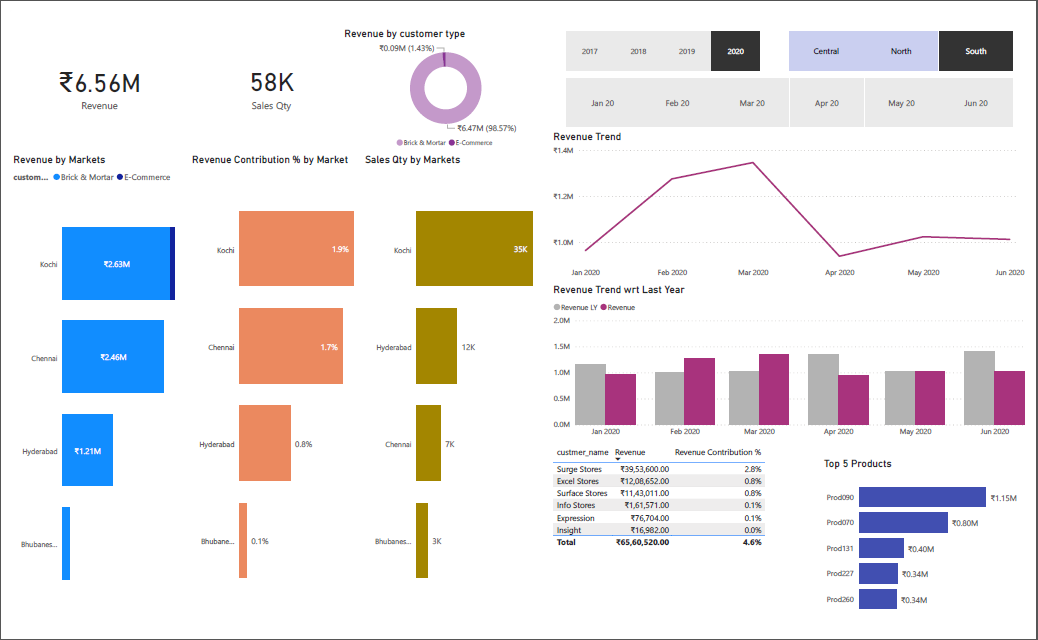

This screenshot's page, from the dashboard's own definition file:
{"tool":"powerbi","page":{"name":"Page 2","canvas":[1680,1000],"ordinal":1},"visuals":[{"type":"card","fields":{"Values":["BaseMeasures.Revenue"]},"box":[0,0,295.4,225.5],"z":0},{"type":"card","fields":{"Values":["BaseMeasures.Sales Qty"]},"box":[315.4,0,231.5,223.6],"z":1000},{"type":"barChart","title":"Revenue by Markets","fields":{"Y":["BaseMeasures.Revenue"],"Category":["sales markets.markets_name"],"Series":["sales customers.customer_type"]},"box":[0,223.6,295.4,776.4],"z":2000},{"type":"barChart","title":"Sales Qty by Markets","fields":{"Y":["BaseMeasures.Sales Qty"],"Category":["sales markets.markets_name"]},"box":[580.8,223.6,311.4,776.4],"z":3000},{"type":"slicer","fields":{"Values":["sales date.year"]},"box":[892.2,16,369.3,77.8],"z":4000},{"type":"slicer","fields":{"Values":["sales date.cy_date"]},"box":[892.2,93.8,788.4,91.8],"z":5000},{"type":"tableEx","title":"Top 5 Customers","fields":{"Values":["sales customers.custmer_name","BaseMeasures.Revenue","BaseMeasures.Revenue Contribution"]},"box":[892.2,702.6,447.1,297.4],"z":6000},{"type":"barChart","title":"Top 5 Products","fields":{"Category":["sales transactions.product_code"],"Y":["BaseMeasures.Revenue"]},"box":[1339.3,726.5,341.3,273.5],"z":7000},{"type":"lineChart","title":"Revenue Trend","fields":{"Y":["BaseMeasures.Revenue"],"Category":["sales date.cy_date"]},"box":[892.2,185.6,788.4,253.5],"z":8000},{"type":"slicer","fields":{"Values":["sales markets.zone"]},"box":[1260.8,16,419.2,77.8],"z":9000},{"type":"barChart","title":"Revenue Contribution % by Market","fields":{"Y":["BaseMeasures.Revenue Contribution"],"Category":["sales markets.markets_name"]},"box":[295.4,223.6,285.4,776.4],"z":10000},{"type":"donutChart","title":"Revenue by customer type","fields":{"Category":["sales customers.customer_type"],"Y":["BaseMeasures.Revenue"]},"box":[546.9,16,345.3,207.6],"z":11000},{"type":"lineClusteredColumnComboChart","title":"Revenue Trend wrt Last Year","fields":{"Category":["sales date.cy_date"],"Y":["BaseMeasures.Revenue LY","BaseMeasures.Revenue"]},"box":[892.2,439.1,788.4,263.5],"z":12000}]}

Visuals, with their boxes on the page's 1680x1000 design canvas (x1, y1, x2, y2). These are canvas units, not pixel positions in the 1038x640 screenshot, which may show the page scaled, cropped or inside an application window:
card - BaseMeasures.Revenue: 0,0,295,226
card - BaseMeasures.Sales Qty: 315,0,547,224
"Revenue by Markets" barChart: 0,224,295,1000
"Sales Qty by Markets" barChart: 581,224,892,1000
slicer - sales date.year: 892,16,1262,94
slicer - sales date.cy_date: 892,94,1681,186
"Top 5 Customers" tableEx: 892,703,1339,1000
"Top 5 Products" barChart: 1339,726,1681,1000
"Revenue Trend" lineChart: 892,186,1681,439
slicer - sales markets.zone: 1261,16,1680,94
"Revenue Contribution % by Market" barChart: 295,224,581,1000
"Revenue by customer type" donutChart: 547,16,892,224
"Revenue Trend wrt Last Year" lineClusteredColumnComboChart: 892,439,1681,703
